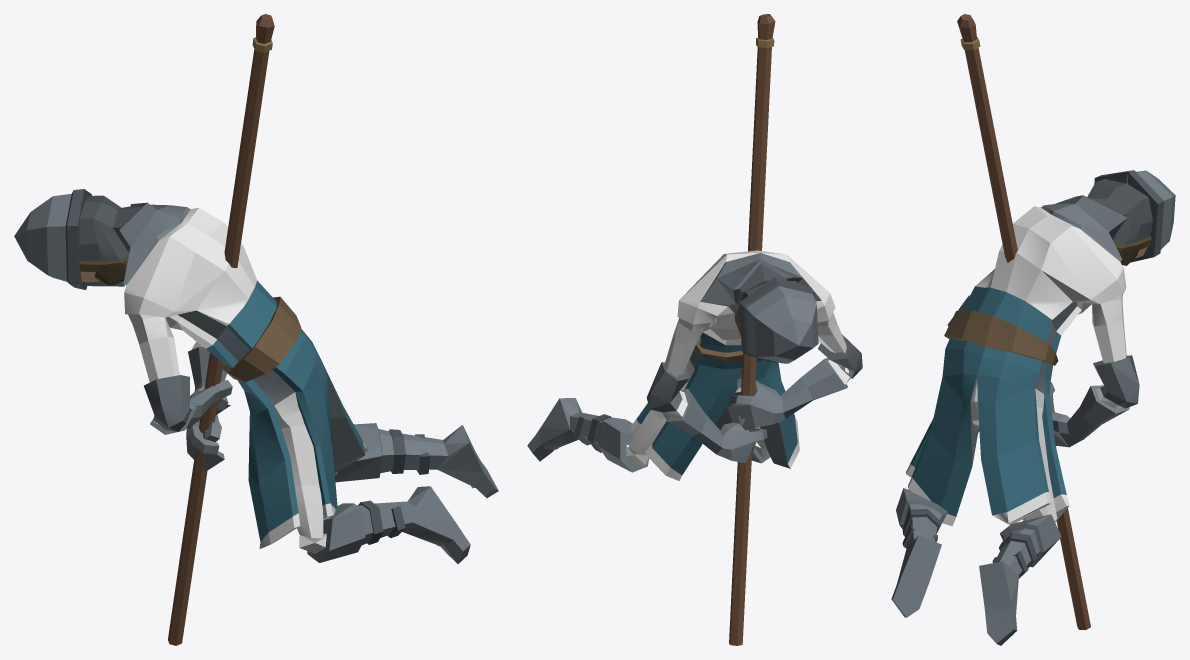
Rendered from SM_Dead_Soldier_07.fbx.
3 renders of one model, left to right at view 1: azimuth 30°, elevation 25°; view 2: azimuth 150°, elevation 25°; view 3: azimuth 270°, elevation 25°, orthographic. The views are drawn at different scales.
Visible parts, largest first — view 1: SM_Dead_Soldier_07; view 2: SM_Dead_Soldier_07; view 3: SM_Dead_Soldier_07.
Part boxes in pixels (bbox=[...]): SM_Dead_Soldier_07: bbox=[14, 14, 498, 645]; SM_Dead_Soldier_07: bbox=[527, 14, 862, 645]; SM_Dead_Soldier_07: bbox=[891, 14, 1175, 645].
Bounding box in the file's own units: 135 × 217 × 89.45.
